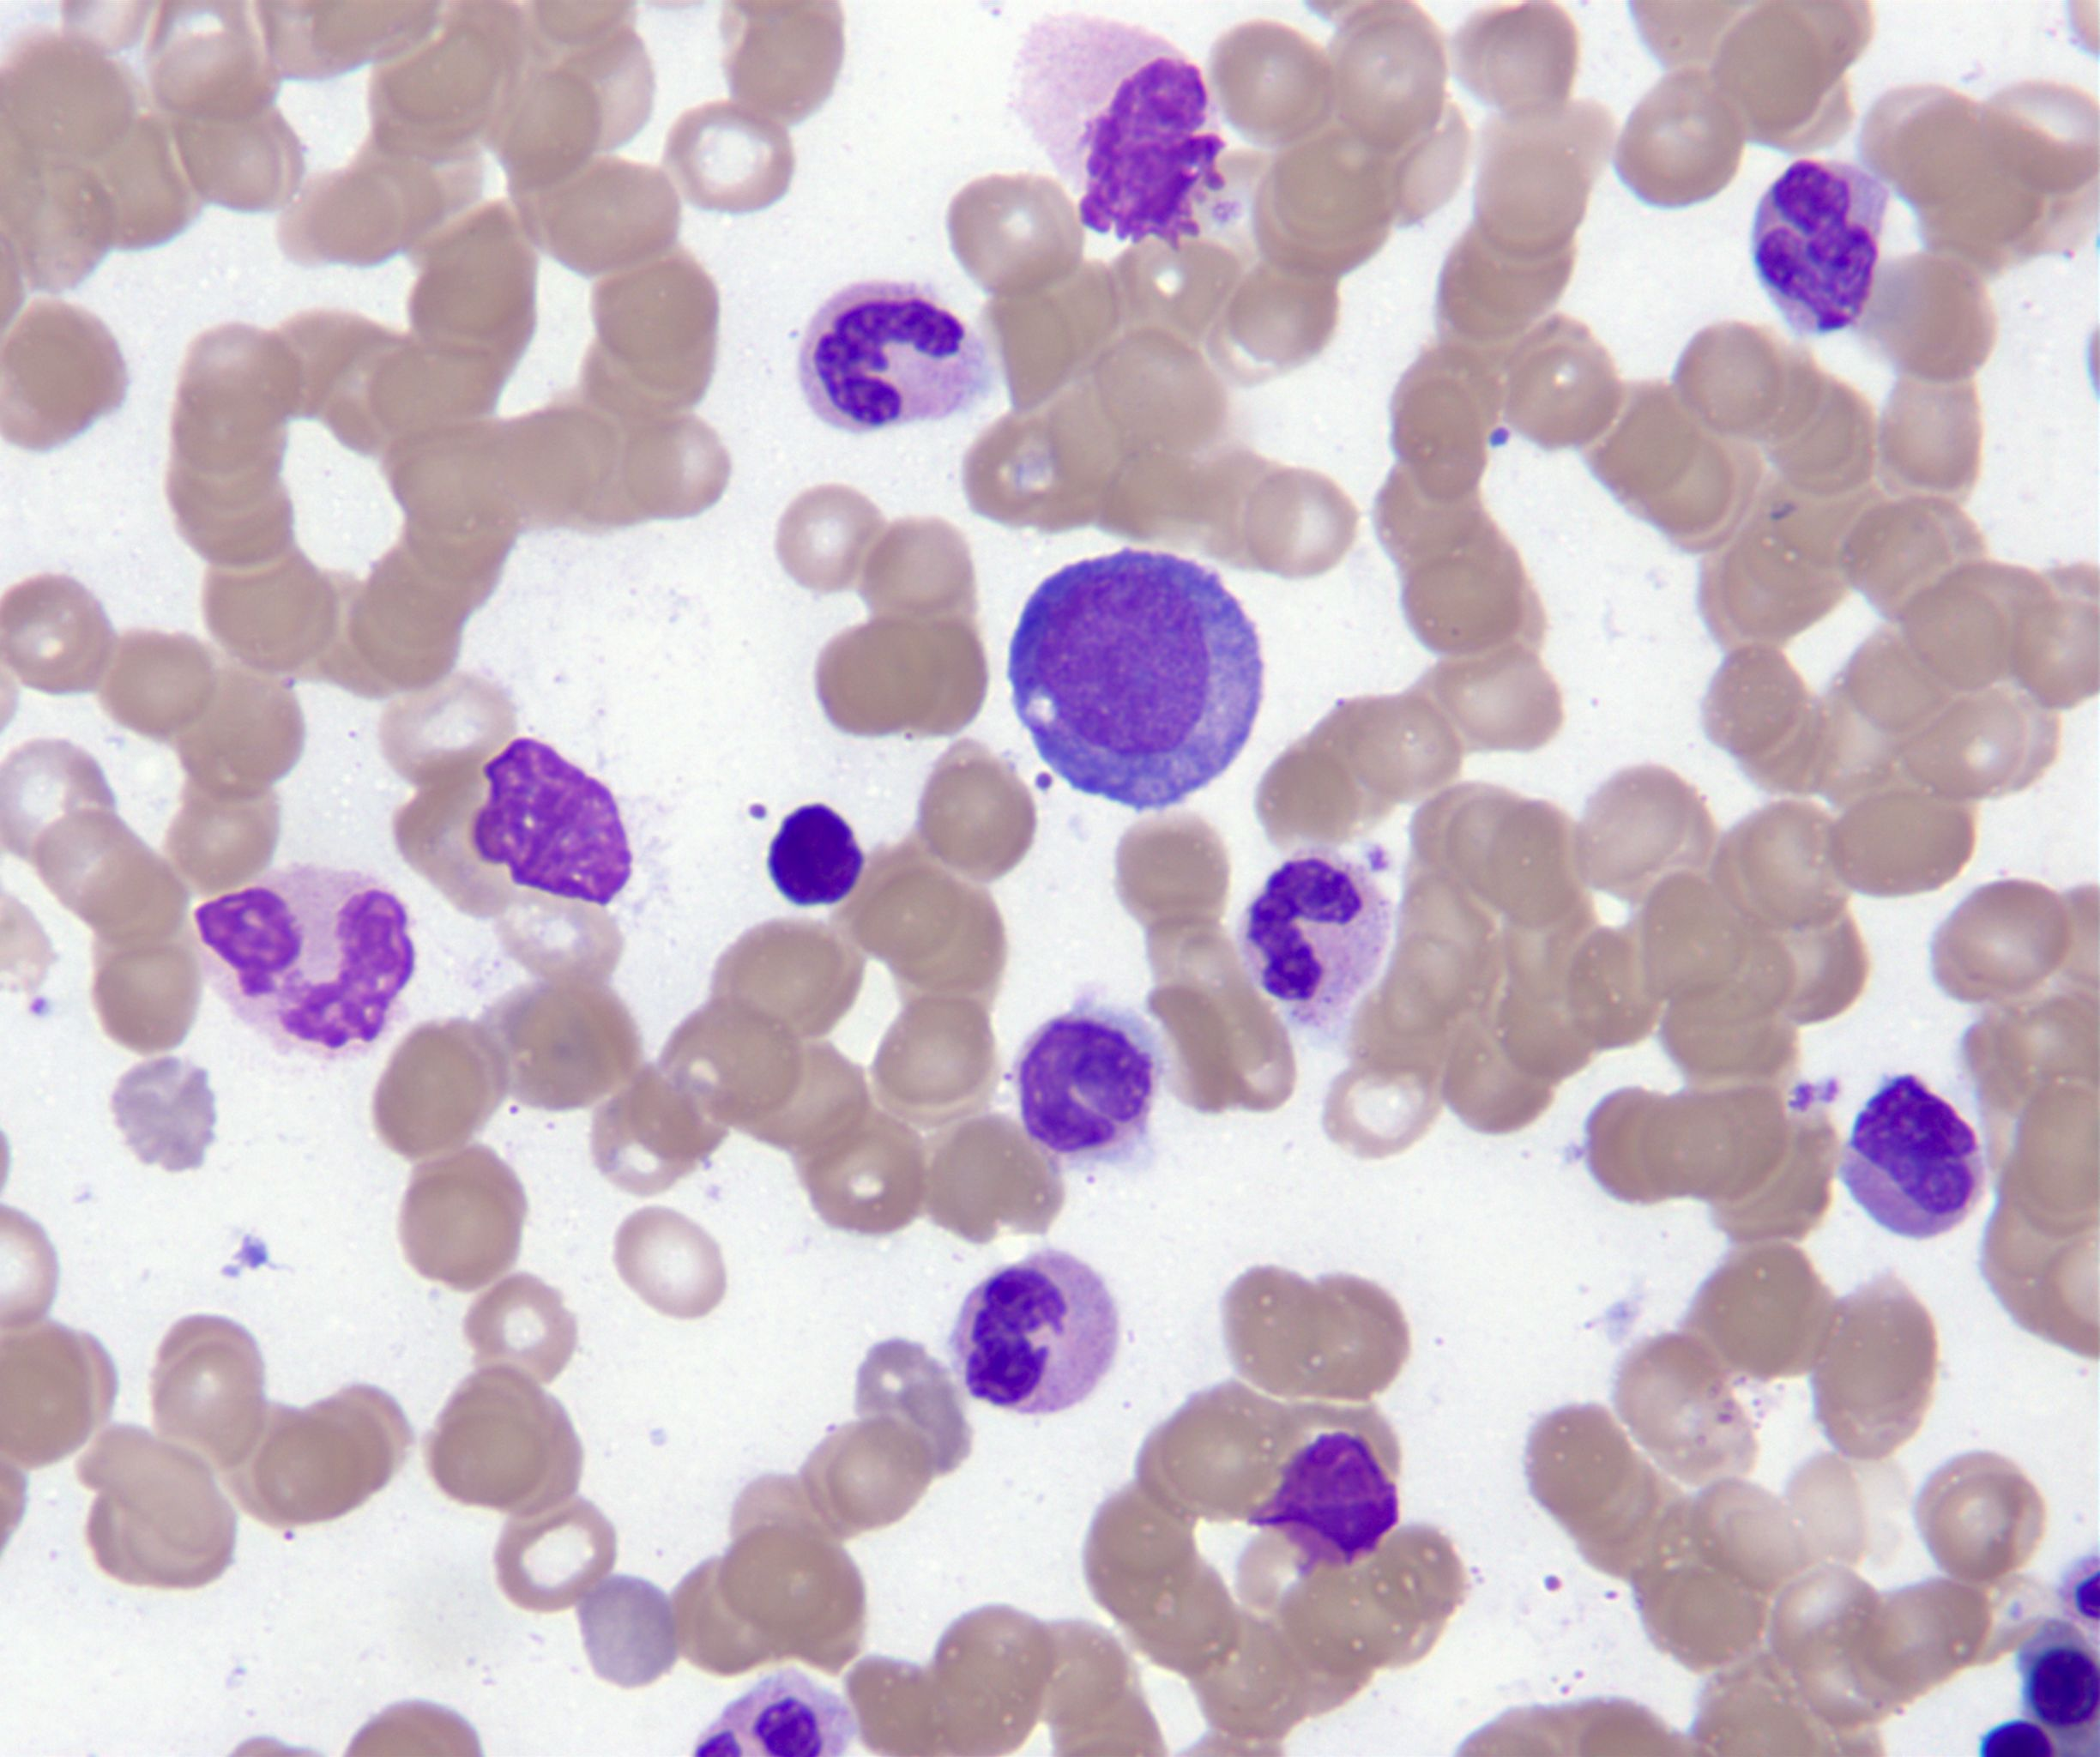2: (1003, 546, 1266, 820)
32: (788, 270, 1001, 447), (760, 794, 870, 913)
5: (940, 1241, 1122, 1425), (1230, 839, 1401, 1035), (1005, 986, 1176, 1174), (1746, 154, 1891, 345), (1833, 1070, 1987, 1246)
x: (1006, 7, 1230, 260), (183, 862, 422, 1068), (464, 729, 640, 918), (1242, 1424, 1406, 1576)
